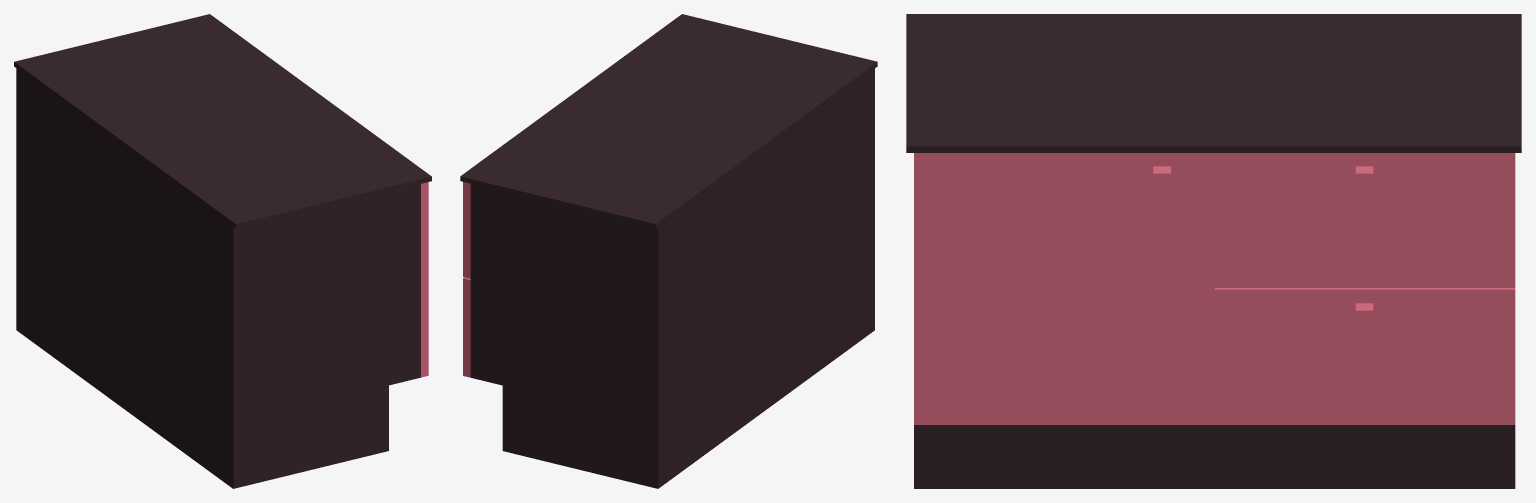
File: TestiKaapit.fbx
3 renders of one model, left to right at view 1: azimuth 30°, elevation 25°; view 2: azimuth 150°, elevation 25°; view 3: azimuth 270°, elevation 25°, orthographic. The views are drawn at different scales.
Parts seen in each view (by area): view 1: Runko, Ovi; view 2: Runko, LaatikkoAla, LaatikkoYlä; view 3: Runko, Ovi, LaatikkoAla, LaatikkoYlä.
Part boxes in pixels (box(x1,y1,x2,y2)): Runko: box(14, 14, 431, 488); Ovi: box(421, 182, 428, 377); Runko: box(460, 14, 877, 488); LaatikkoAla: box(463, 277, 470, 377); LaatikkoYlä: box(463, 182, 470, 278); Runko: box(906, 14, 1521, 488); Ovi: box(914, 153, 1214, 424); LaatikkoAla: box(1214, 288, 1515, 424); LaatikkoYlä: box(1214, 153, 1515, 287).
Bounding box in the file's own units: 65.89 × 81.42 × 123.
